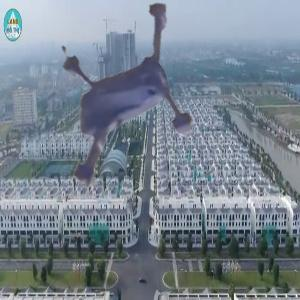drone: (16, 19, 232, 235)
